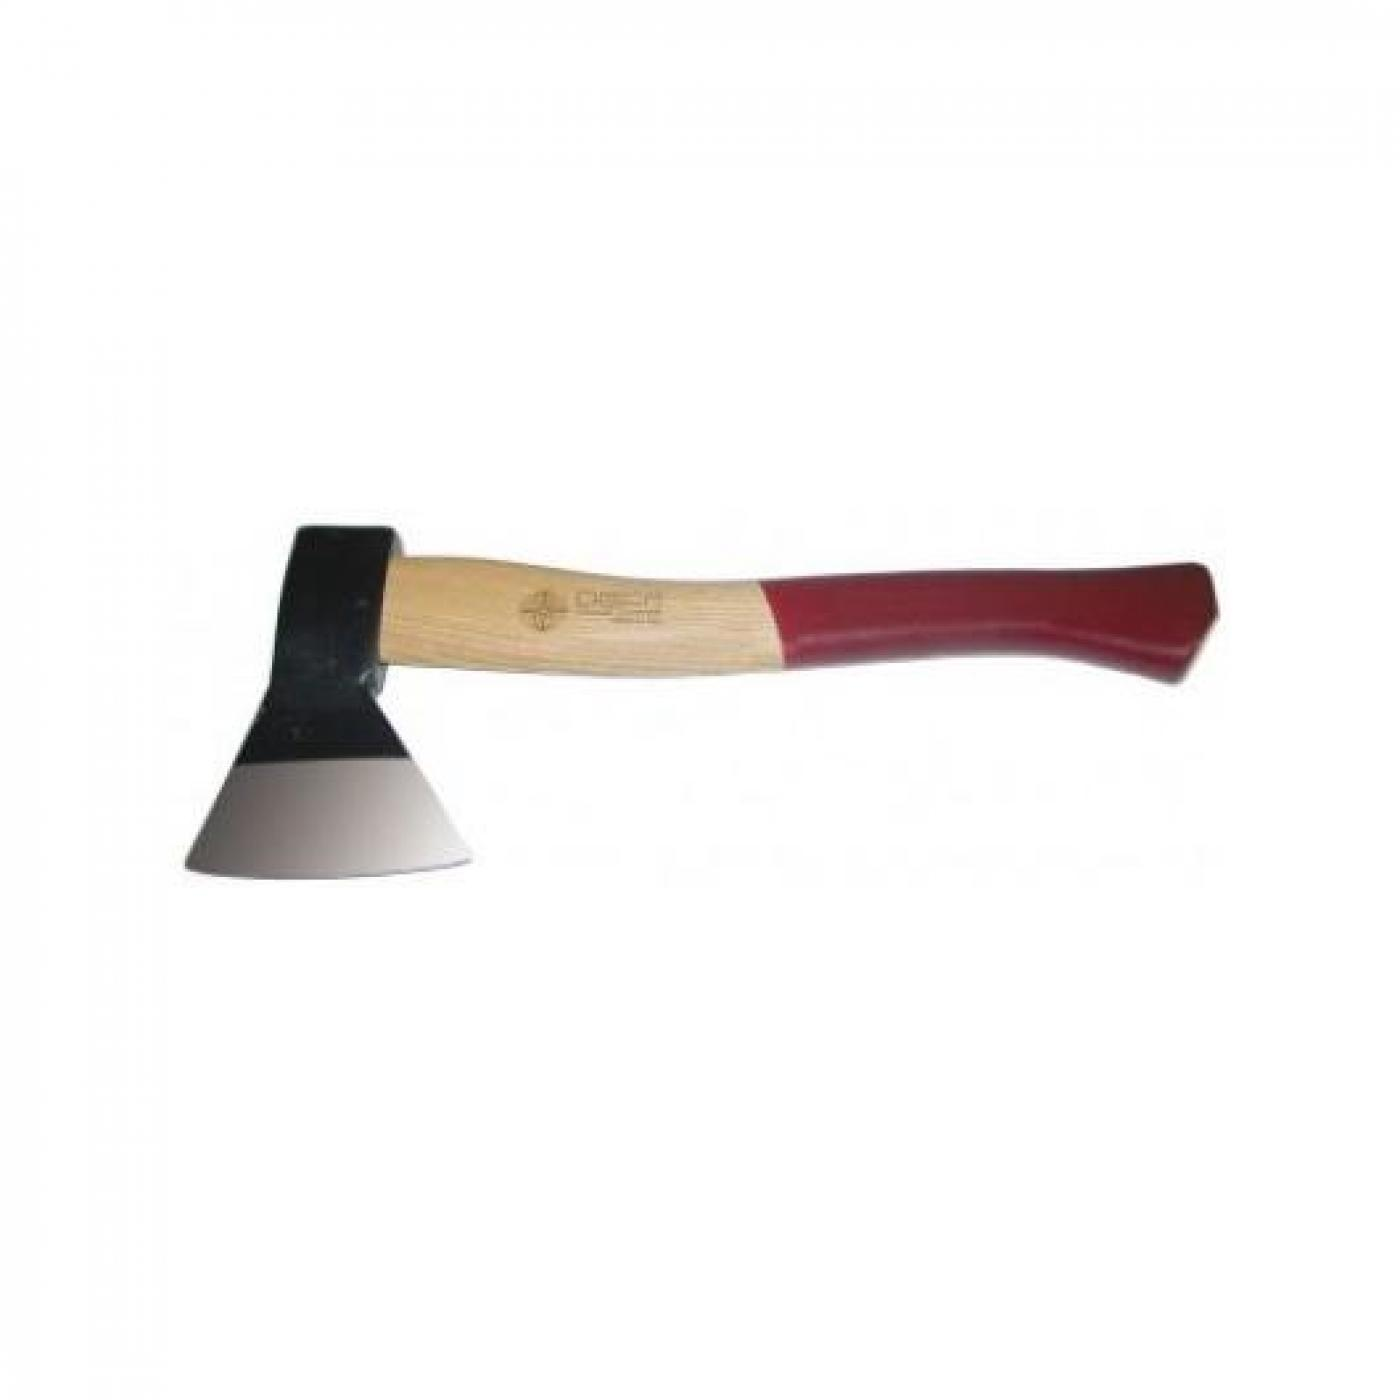machado: (186, 526, 1218, 878)
